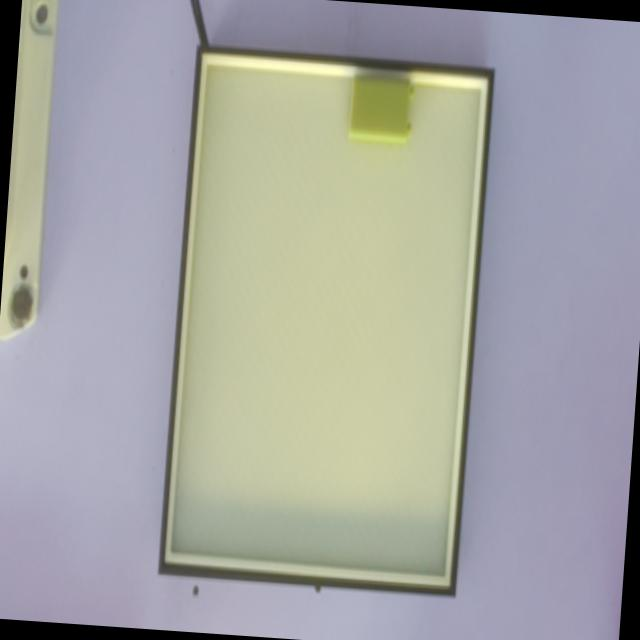bateria: (349, 71, 414, 141)
mesa: (159, 46, 496, 596)
